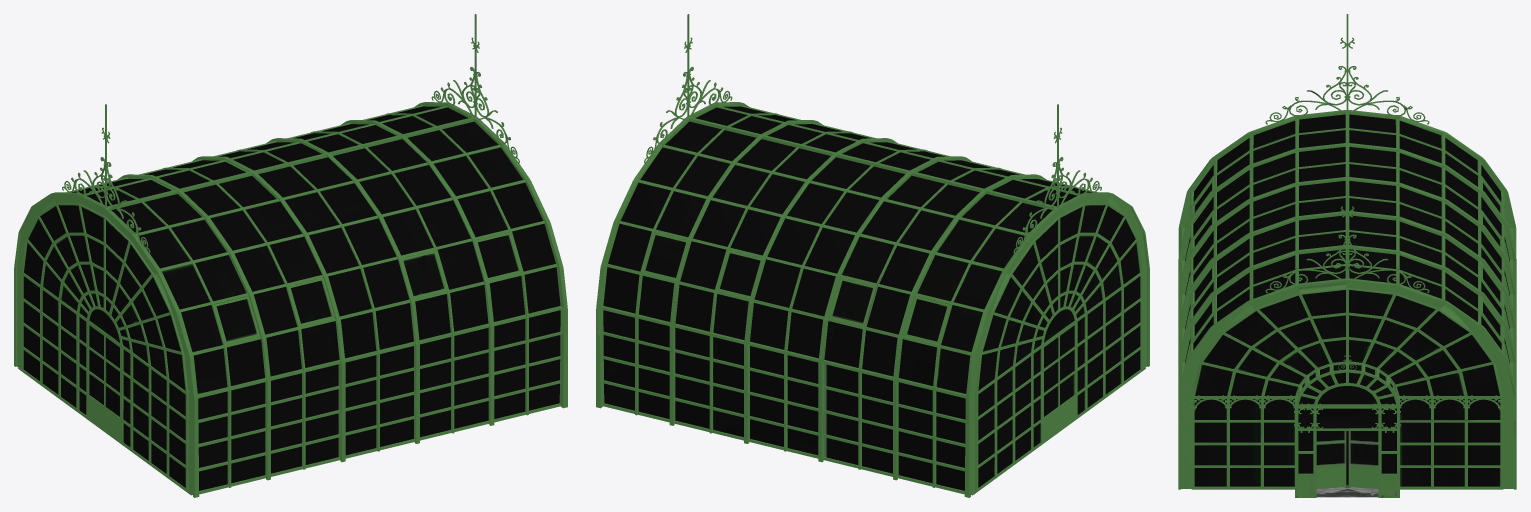
Rendered from greenhouse.glb.
3 views of the same model, side by side, from view 1: azimuth 30°, elevation 25°; view 2: azimuth 150°, elevation 25°; view 3: azimuth 270°, elevation 25° (orthographic). The views are drawn at different scales.
Visible parts, largest first — view 1: greenhouse; view 2: greenhouse; view 3: greenhouse.
Part boxes in pixels (box(x1,y1,x2,y2)): greenhouse: box(14, 14, 567, 497); greenhouse: box(596, 14, 1149, 497); greenhouse: box(1178, 14, 1516, 497).
Size of the model in its own units: 20 by 16 by 16.
Materials: 1 (1 with a texture image).
